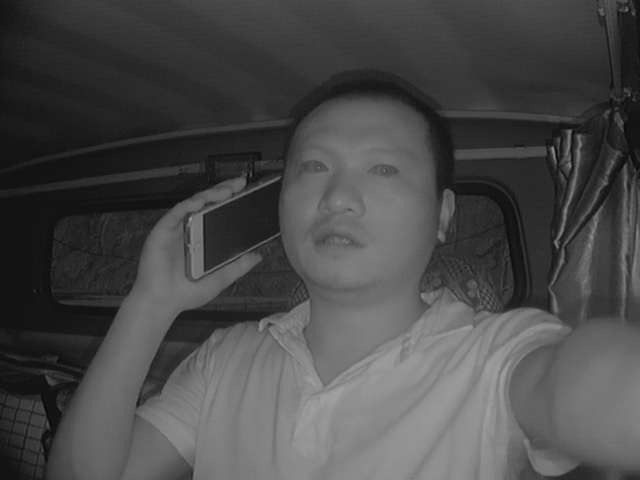hand: (136, 175, 261, 313)
